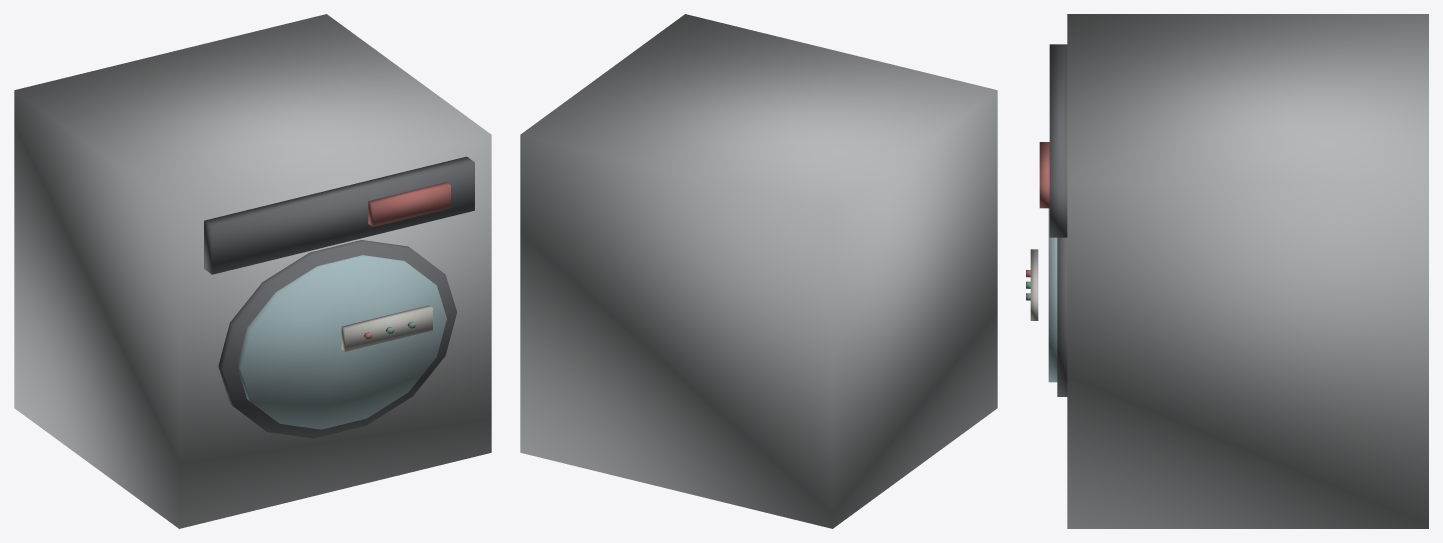
Rendered from industrial_dryer__squat.glb.
The picture shows the model from 3 angles, left to right: view 1: azimuth 30°, elevation 25°; view 2: azimuth 150°, elevation 25°; view 3: azimuth 270°, elevation 25°; orthographic projection. The views are drawn at different scales.
Parts seen in each view (by area): view 1: world; view 2: world; view 3: world.
Part boxes in pixels (bbox=[...]): world: bbox=[14, 14, 491, 528]; world: bbox=[520, 14, 997, 528]; world: bbox=[1026, 14, 1428, 528].
Bounding box in the file's own units: 0.968 × 0.9408 × 0.9866.
